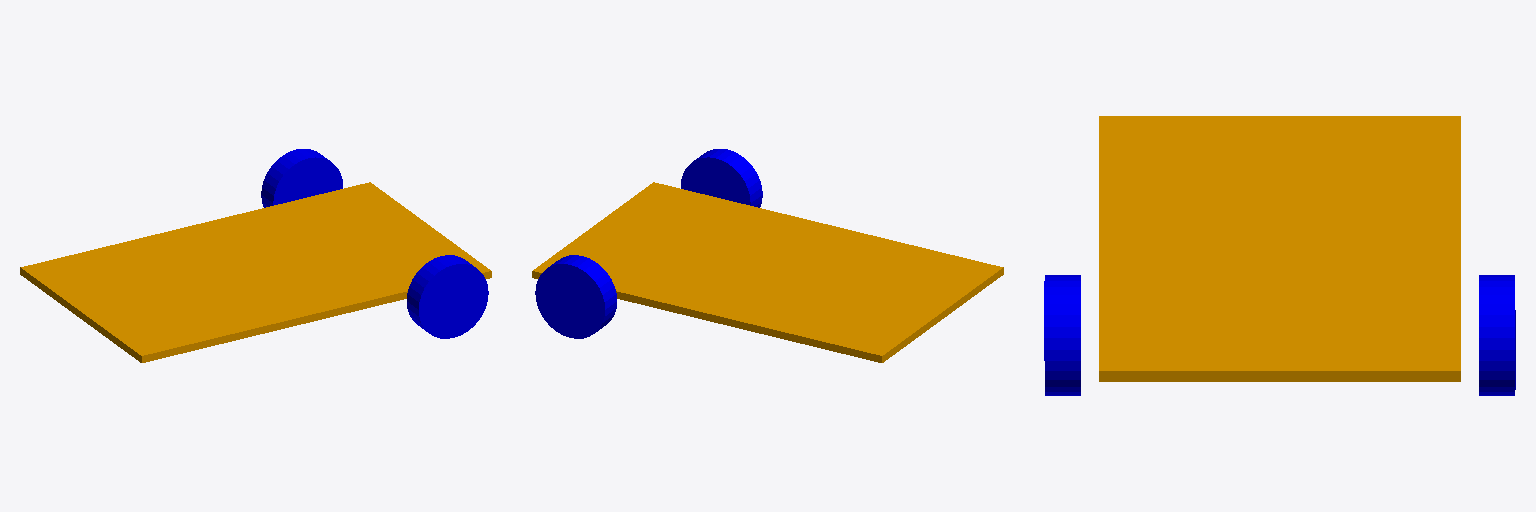
robot.urdf — robot1:
<?xml version="1.0"?>
<robot name="robot1">

  <link name="chassis">
    <inertial>
     <origin xyz="0 0 0.0" rpy="0 0 0"/>
     <mass value="1"/>
     <inertia ixx="0.0075"  ixy="0"  ixz="0" iyy="0.02" iyz="0" izz="0.02" />
   </inertial>
    <visual>
      <geometry>
        <box size="0.5 0.3 0.01"/>
      </geometry>
      <origin xyz="0.0 0.0 0.05" />
    </visual>
    <collision>
     <geometry>
        <box size="0.5 0.3 0.01"/>
      </geometry>
      <origin xyz="0.0 0.0 0.05" />
   </collision>
  </link>

  <link name="left_wheel">
    <inertial>
     <origin xyz="0 0 0" rpy="0 0 0"/>
     <mass value="1"/>
     <inertia ixx="0.0007"  ixy="0"  ixz="0" iyy="0.00125" iyz="0" izz="0.0007" />
   </inertial>
    <visual>
      <geometry>
        <cylinder length="0.03" radius="0.05"/>
      </geometry>
      <origin xyz="0.0 0 0.0" rpy="0 1.57 1.57"/>
      <material name="Cyan">
       <color rgba="0 0.0 1.0 1.0"/>
     </material>
    </visual>
    <collision>
     <geometry>
        <cylinder length="0.03" radius="0.05"/>
      </geometry>
      <origin xyz="0.0 0 0.0" rpy="0 1.57 1.57"/>
   </collision>
  </link>

  <gazebo reference="left_wheel">
    <mu1>1.2</mu1>
    <mu2>1.2</mu2>
    <kp>500000.0</kp>
    <kd>10.0</kd>
    <minDepth>0.001</minDepth>
    <maxVel>0.1</maxVel>
    <material>Gazebo/FlatBlack</material>
  </gazebo>

  <joint name="chassis_to_left_wheel" type="continuous">
    <parent link="chassis"/>
    <child link="left_wheel"/>
    <axis xyz="0 1 0"/>
    <origin xyz="0.17 0.18 0.05" rpy="0 0.0 0.0"/>
  </joint>


   <link name="right_wheel">
    <inertial>
     <origin xyz="0 0 0" rpy="0 0 0"/>
     <mass value="1"/>
     <inertia ixx="0.0007"  ixy="0"  ixz="0" iyy="0.00125" iyz="0" izz="0.0007" />
   </inertial>
    <visual>
      <geometry>
        <cylinder length="0.03" radius="0.05"/>
      </geometry>
      <origin xyz="0.0 0 0.0" rpy="0 1.57 1.57"/>
      <material name="Cyan">
       <color rgba="0 0.0 1.0 1.0"/>
     </material>
    </visual>
    <collision>
     <geometry>
        <cylinder length="0.03" radius="0.05"/>
      </geometry>
      <origin xyz="0.0 0 0.0" rpy="0 1.57 1.57"/>
   </collision>
  </link>

  <gazebo reference="right_wheel">
    <mu1>1.2</mu1>
    <mu2>1.2</mu2>
    <kp>500000.0</kp>
    <kd>10.0</kd>
    <minDepth>0.001</minDepth>
    <maxVel>0.1</maxVel>
    <material>Gazebo/FlatBlack</material>
  </gazebo>

  <joint name="chassis_to_right_wheel" type="continuous">
    <parent link="chassis"/>
    <child link="right_wheel"/>
    <axis xyz="0 1 0"/>
    <origin xyz="0.17 -0.18 0.05" rpy="0 0.0 0.0"/>
  </joint>

  <link name="roue_folle">
    <inertial>
     <origin xyz="0 0 0.0" rpy="0 0 0"/>
     <mass value="1.0"/>
     <inertia ixx="0.00025"  ixy="0"  ixz="0" iyy="0.00025" iyz="0" izz="0.00025" />
   </inertial>
    <visual>
      <geometry>
        <sphere radius="0.025"/>
      </geometry>
      <origin xyz="0 0 0" rpy="0 0 0"/>
    </visual>
    <collision>
     <geometry>
        <sphere radius="0.025"/>
      </geometry>
      <origin xyz="0 0 0" rpy="0 0 0"/>
   </collision>
  </link>

  <gazebo reference="roue_folle">
    <mu1>0.1</mu1>
    <mu2>0.1</mu2>
    <kp>500000.0</kp>
    <kd>10.0</kd>
    <minDepth>0.001</minDepth>
    <maxVel>0.1</maxVel>
    <material>Gazebo/FlatBlack</material>
  </gazebo>

  <joint name="chassis_to_folle" type="fixed">
    <parent link="chassis"/>
    <child link="roue_folle"/>
    <origin xyz="-0.167 0 0.03" rpy="0 0 0"/>
  </joint>


  <gazebo>
    <plugin name="diff_drive" filename="libgazebo_ros_diff_drive.so">

      <!-- roues-->
      <left_joint>chassis_to_left_wheel</left_joint>
      <right_joint>chassis_to_right_wheel</right_joint>
      
      <!-- Separation-->
      <wheel_separation>0.36</wheel_separation>
      <wheel_diameter>0.1</wheel_diameter>
      <odometry_frame>odom</odometry_frame>

      <!-- limites  -->
      <max_wheel_torque>20</max_wheel_torque>
      <max_acceleration>1.0</max_acceleration>

      <!-- output -->
      <publish_odom>true</publish_odom>
      <publish_odom_tf>true</publish_odom_tf>
      <publish_wheel_tf>true</publish_wheel_tf>
      <robot_base_frame>chassis</robot_base_frame>

    </plugin>
  </gazebo>


</robot>

--- Render facts (derived) ---
3 views of the same robot in one strip: view 1: azimuth 30°, elevation 25°; view 2: azimuth 150°, elevation 25°; view 3: azimuth 270°, elevation 25° (orthographic).
Robot: robot1 — 4 links, 3 joints (2 continuous, 1 fixed); root link chassis; default pose: every joint at zero.
Visible links, largest first — view 1: chassis, right_wheel, left_wheel; view 2: chassis, left_wheel, right_wheel; view 3: chassis, left_wheel, right_wheel.
Boxes of the visible links, x1,y1,x2,y2 form: chassis: [20, 182, 491, 362]; right_wheel: [407, 255, 488, 338]; left_wheel: [261, 149, 342, 207]; chassis: [532, 182, 1003, 362]; left_wheel: [535, 255, 616, 338]; right_wheel: [681, 149, 762, 207]; chassis: [1099, 116, 1460, 381]; left_wheel: [1479, 275, 1515, 395]; right_wheel: [1044, 275, 1080, 395].
Size in the robot's own frame: 0.5 by 0.3901 by 0.1 metres.
Geometry: primitives only (box / cylinder / sphere), no mesh files.